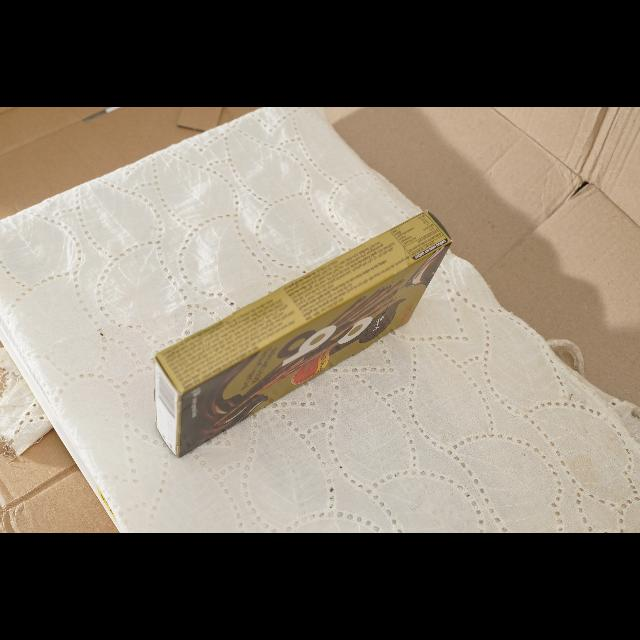banh_toppo_socola: (155, 211, 451, 457)
